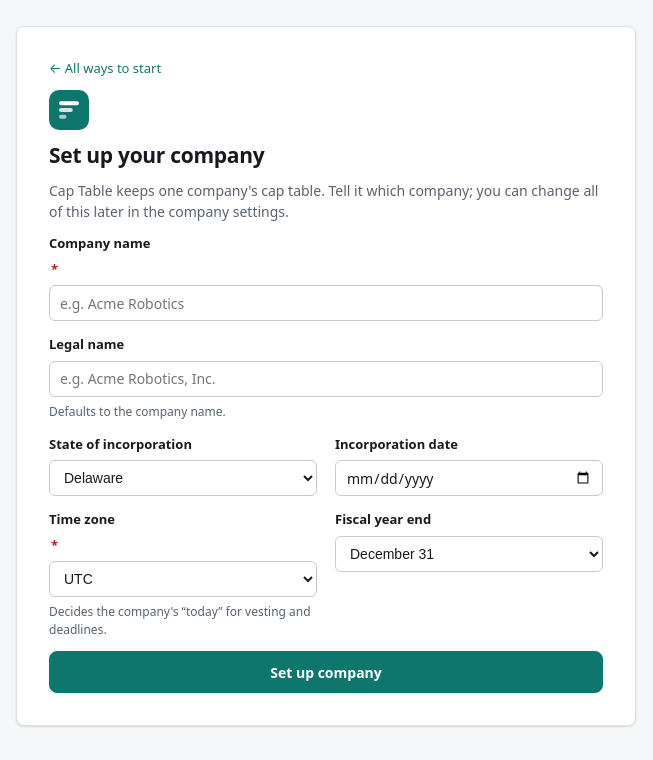
Test: first run: no company yet › shows the server's conflict message when setup is blocked
Step 1. Type "Acme Robotics" into the field labelled "Company name *" → (326, 303), box [49,285,603,321]
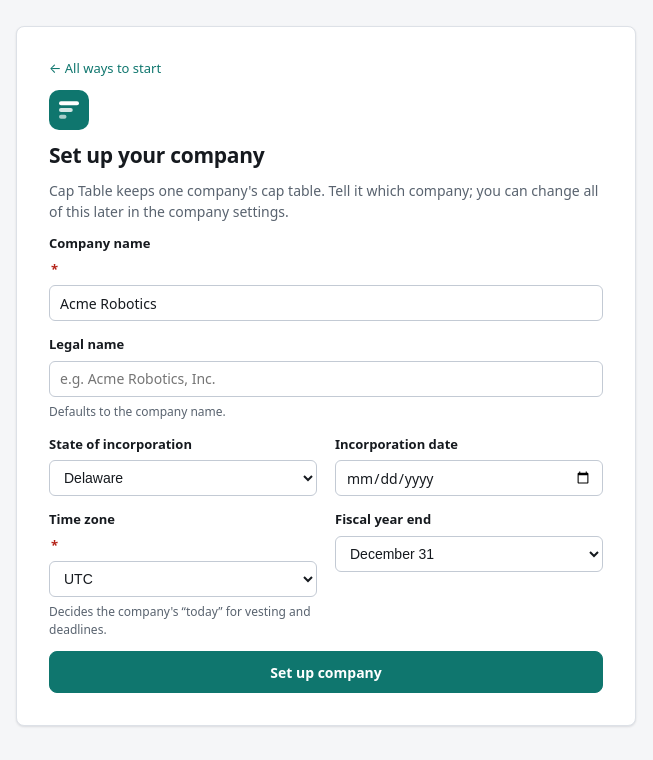
Step 2. Click the button "Set up company" → (326, 672), box [49,651,603,693]
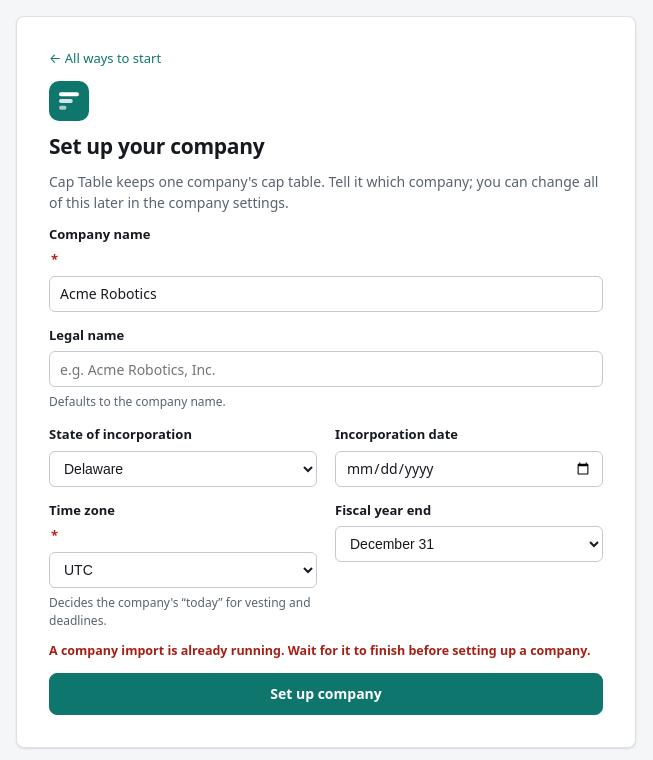
Check: the message shows "A company import is already running. Wait for it to finish before setting up a company.", box [49,642,590,659]
